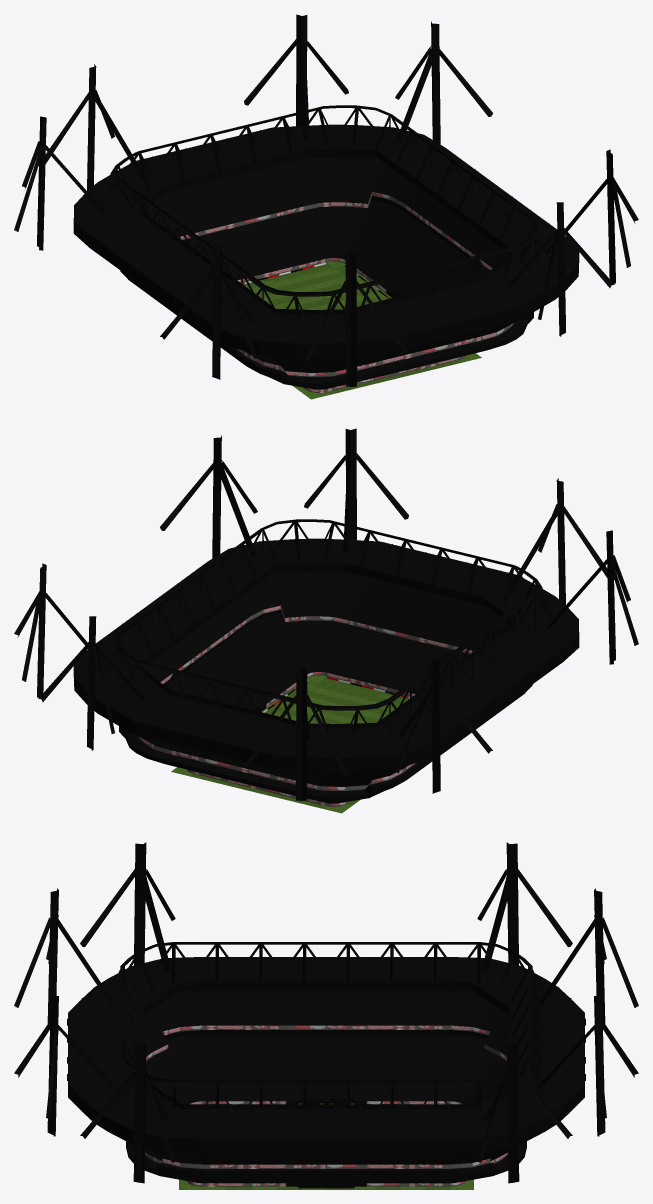
The model's file is st_051_stadium.fbx.
3 renders of one model, top to bottom at view 1: azimuth 30°, elevation 25°; view 2: azimuth 150°, elevation 25°; view 3: azimuth 270°, elevation 25°, orthographic. The views are drawn at different scales.
Visible parts, largest first — view 1: st_051_Stadium_out; view 2: st_051_Stadium_out; view 3: st_051_Stadium_out.
Boxes of the visible parts, <box> form: st_051_Stadium_out: <box>14,14,638,399</box>; st_051_Stadium_out: <box>14,428,638,813</box>; st_051_Stadium_out: <box>14,842,638,1189</box>.
Size of the model in its own units: 247 by 94.86 by 265.
